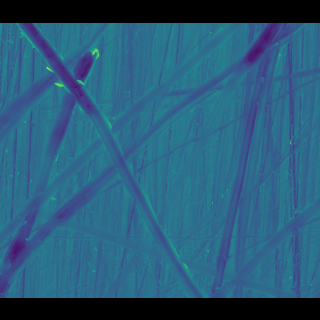Loch: (110, 42, 311, 177), (0, 62, 104, 276), (150, 212, 320, 278)
